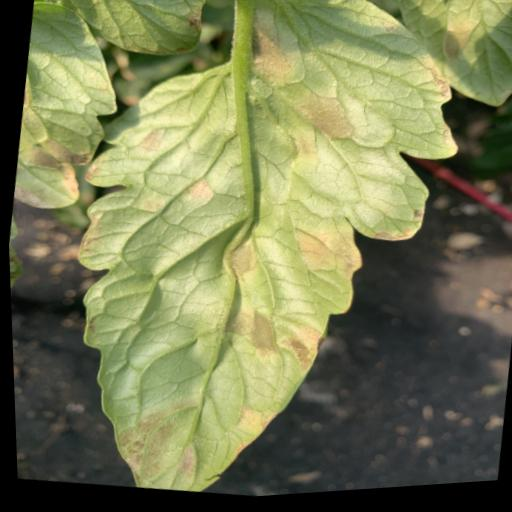Leaf Mold: (32, 0, 491, 510)
